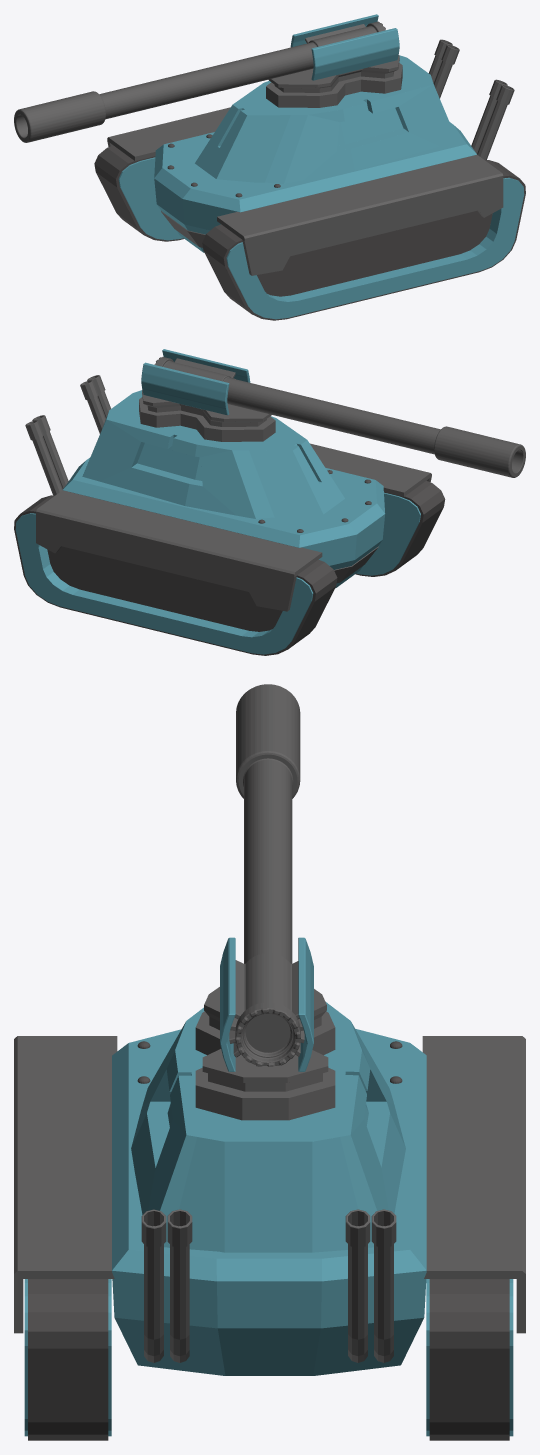
The model's file is SmallTankAnimation.fbx.
3 views of the same model, one above another, from view 1: azimuth 30°, elevation 25°; view 2: azimuth 150°, elevation 25°; view 3: azimuth 270°, elevation 25° (orthographic). The views are drawn at different scales.
Parts seen in each view (by area): view 1: Asmalltank, Asmalltank.001; view 2: Asmalltank, Asmalltank.001; view 3: Asmalltank, Asmalltank.001.
Part boxes in pixels (left/top/right/bottom): Asmalltank: left=94, top=39, right=525, bottom=320; Asmalltank.001: left=14, top=14, right=399, bottom=142; Asmalltank: left=14, top=375, right=445, bottom=655; Asmalltank.001: left=141, top=349, right=525, bottom=477; Asmalltank: left=14, top=987, right=525, bottom=1440; Asmalltank.001: left=220, top=684, right=313, bottom=1071.
Size of the model in its own units: 552 by 241 by 285.
